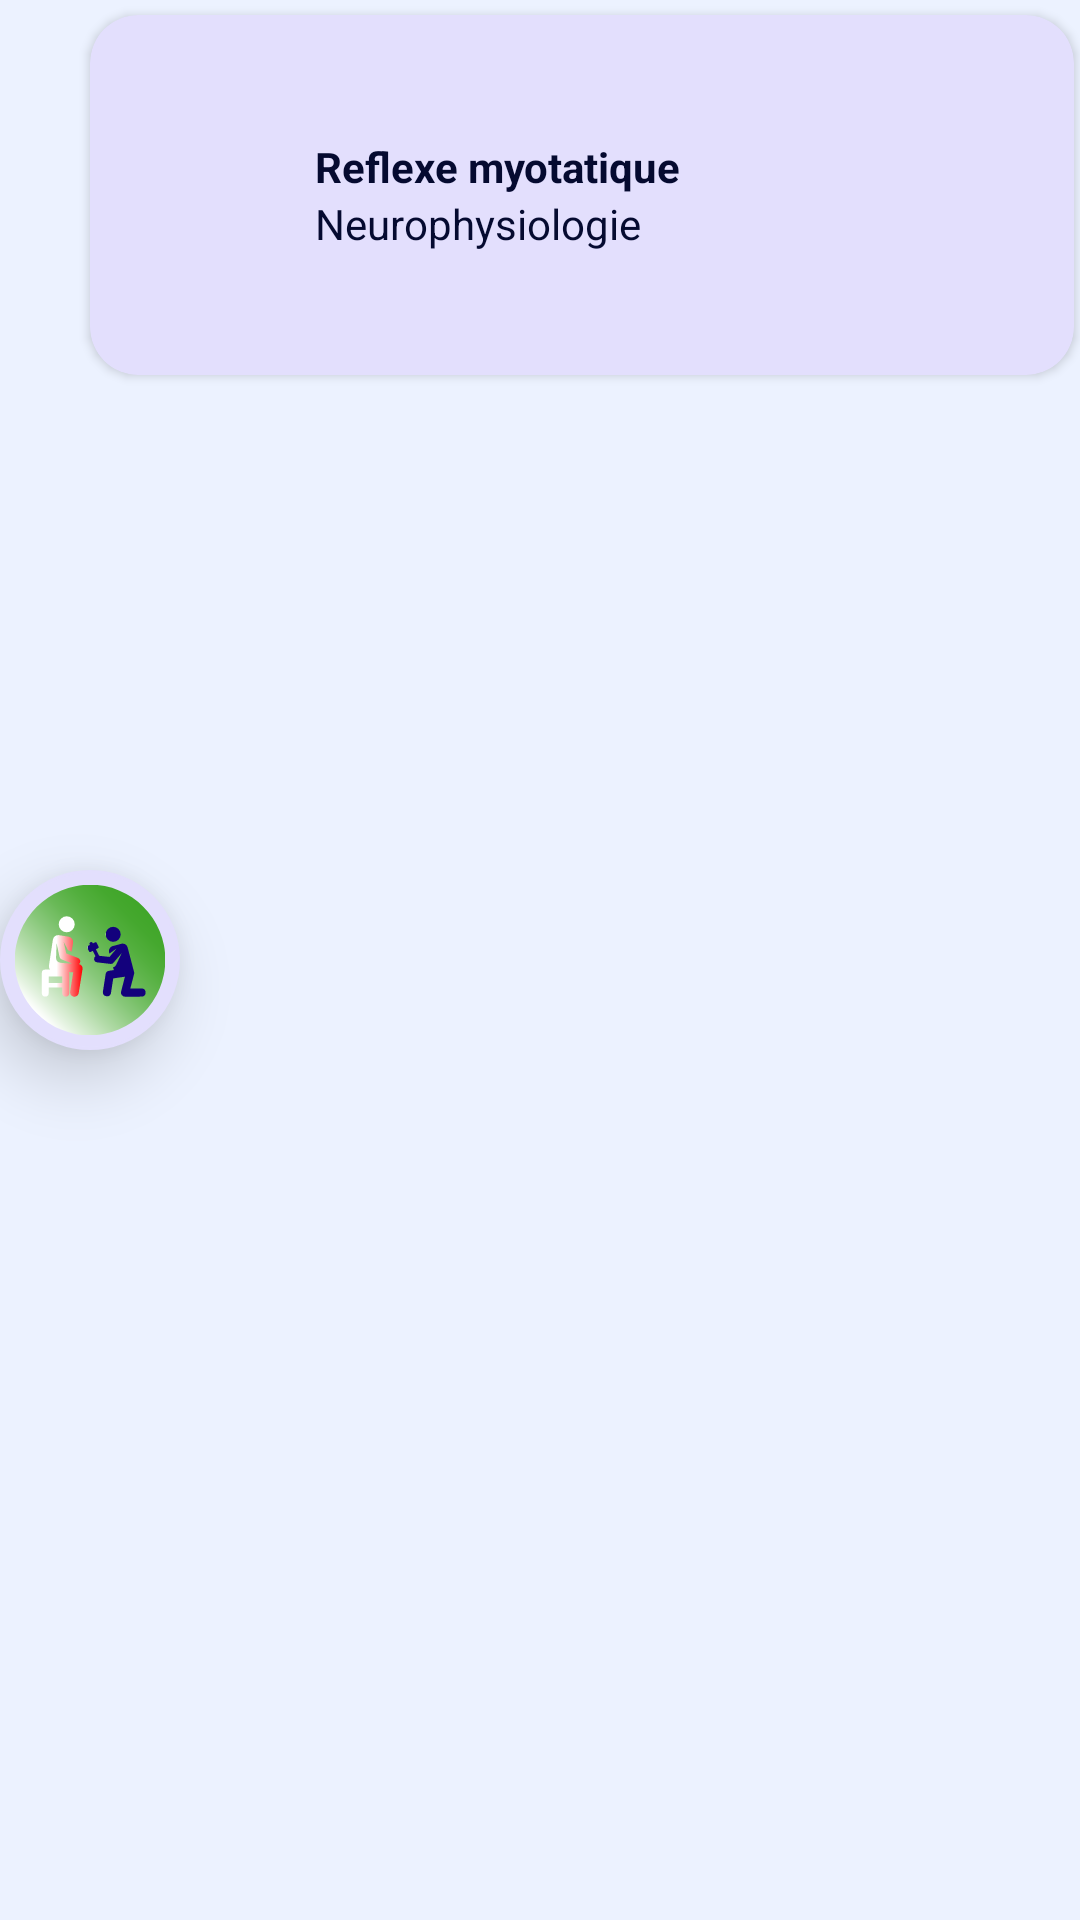

Icons on this 1080px x 1920px Android screen, each with the point to tap as point (x, y):
Icône reflexe myotatique: point (84, 965)
